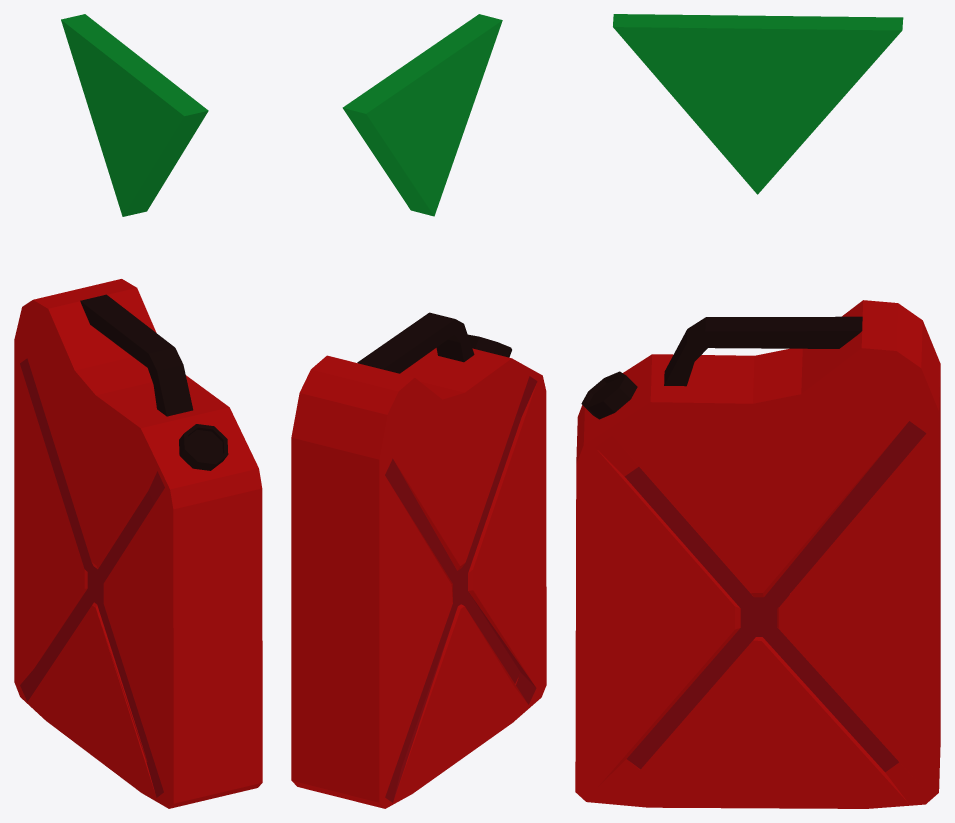
File: Petrol.glb
3 renders of one model, left to right at view 1: azimuth 30°, elevation 25°; view 2: azimuth 150°, elevation 25°; view 3: azimuth 270°, elevation 25°, orthographic. The views are drawn at different scales.
Visible parts, largest first — view 1: craftPetrol; view 2: craftPetrol; view 3: craftPetrol.
Part boxes in pixels (box(x1,y1,x2,y2)): craftPetrol: box(14, 14, 262, 808); craftPetrol: box(291, 14, 546, 808); craftPetrol: box(575, 14, 940, 808).
Size of what is drawn, in the model's own units: 0.2995 by 2.12 by 0.9234.
Materials: 1 (1 with a texture image).
